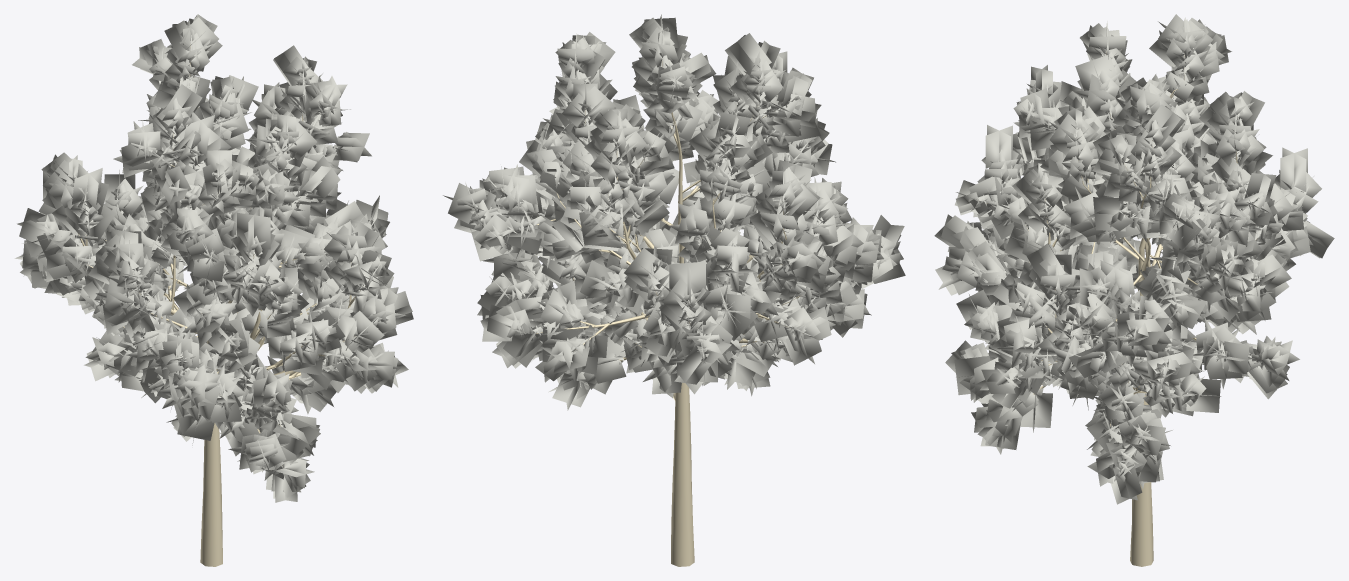
The model's file is oak_medium_v1_lod0.glb.
The picture shows the model from 3 angles, left to right: view 1: azimuth 30°, elevation 25°; view 2: azimuth 150°, elevation 25°; view 3: azimuth 270°, elevation 25°; orthographic projection. The views are drawn at different scales.
Parts seen in each view (by area): view 1: Leaves, Branches; view 2: Leaves, Branches; view 3: Leaves, Branches.
Part boxes in pixels (x1,y1,x2,y2): Leaves: (14, 14, 413, 502); Branches: (78, 44, 369, 566); Leaves: (443, 14, 905, 410); Branches: (502, 61, 801, 566); Leaves: (934, 14, 1334, 504); Branches: (987, 51, 1257, 566).
Size of the model in its own units: 48.57 by 70.21 by 46.38.
